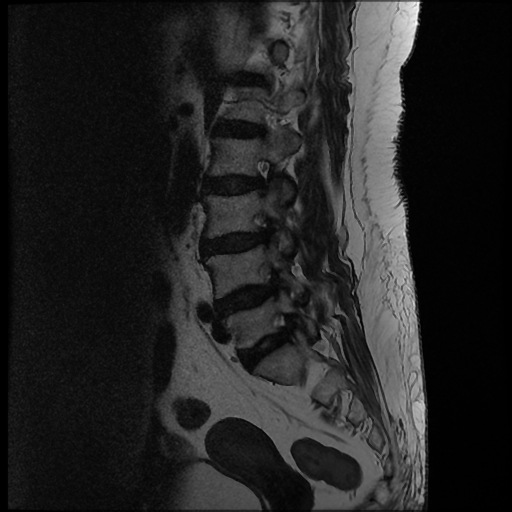LFS0: (241, 149, 282, 201)
LFS3: (244, 206, 287, 257), (248, 254, 287, 306)
